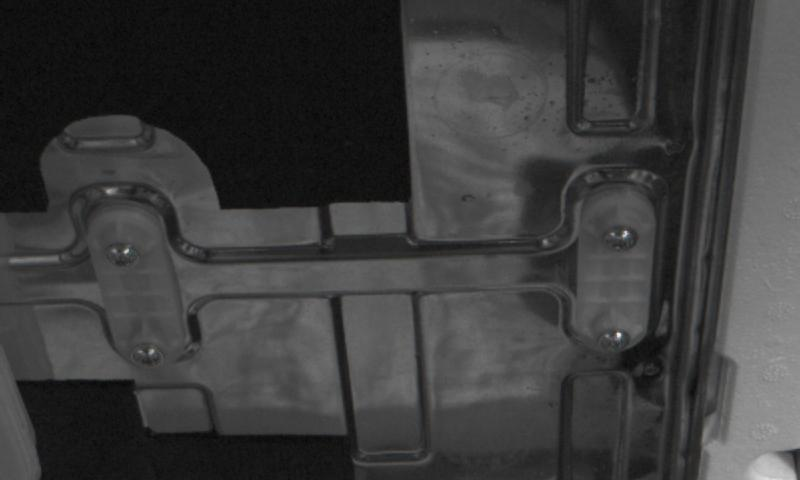vida-ok: (598, 217, 642, 262), (102, 233, 142, 278), (125, 335, 167, 375), (594, 319, 634, 358)
